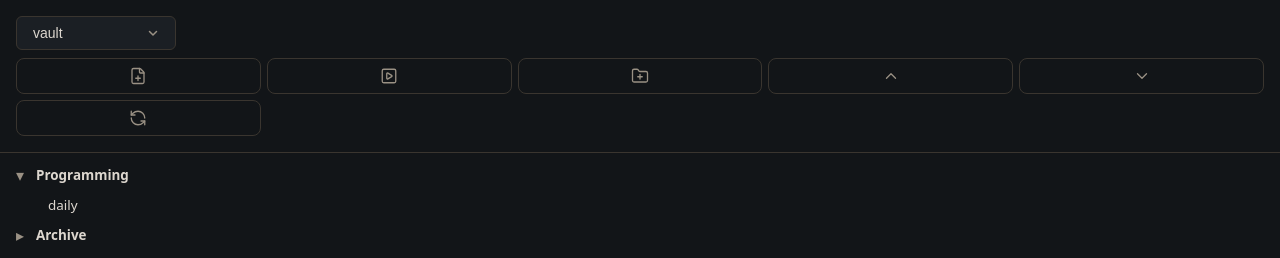
Test: Sidebar Explorer M1 › shows separate note rename and move actions
Right-click the list item "daily" at x=63, y=205, box top-left (48, 196), bottom-right (78, 214)
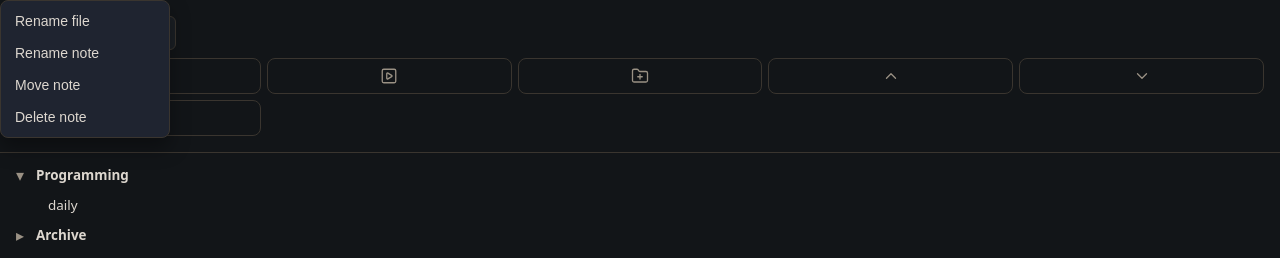
Expected: the menu item "Rename file" is shown, top-left (7, 7), bottom-right (163, 35)
Expected: the menu item "Rename note" is shown, top-left (7, 39), bottom-right (163, 67)
Expected: the menu item "Move note" is shown, top-left (7, 71), bottom-right (163, 99)
